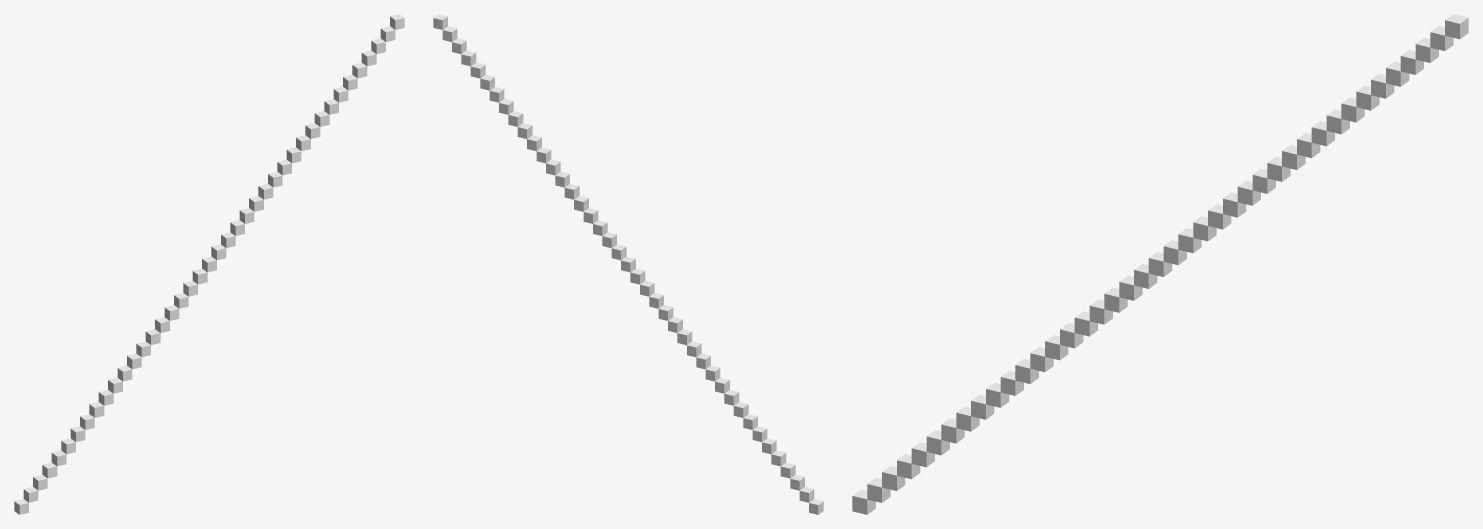
Rendered from Fight_201_2_04_fx.obj.
3 views of the same model, side by side, from view 1: azimuth 30°, elevation 25°; view 2: azimuth 150°, elevation 25°; view 3: azimuth 330°, elevation 25° (orthographic). The views are drawn at different scales.
Size of the model in its own units: 4.1 by 4.1 by 0.1.
